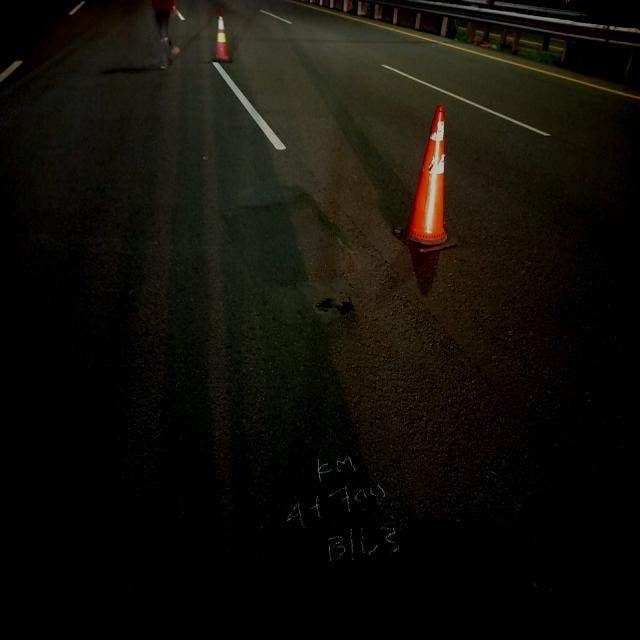Buraco: (309, 292, 363, 328), (93, 61, 163, 79)
